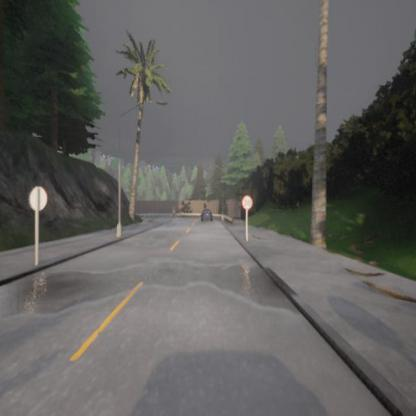traffic_sign_30: (240, 196, 253, 210)
vehicle: (200, 208, 213, 223)
